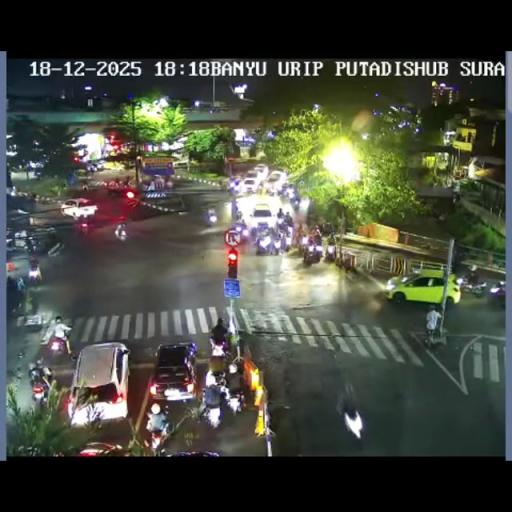Car: (66, 342, 130, 424), (149, 342, 198, 402), (385, 270, 461, 306), (68, 441, 134, 456), (248, 202, 278, 231), (60, 198, 97, 219), (265, 170, 286, 192), (242, 176, 260, 194), (86, 160, 104, 172), (254, 164, 268, 178)
Motorcycle: (339, 400, 365, 450), (45, 328, 71, 362), (144, 422, 170, 454), (198, 400, 224, 429), (456, 273, 487, 297), (30, 372, 51, 407), (207, 346, 230, 376), (422, 325, 445, 352), (210, 318, 228, 352), (225, 387, 245, 415), (22, 284, 38, 317), (486, 280, 504, 308), (42, 230, 62, 254), (302, 241, 322, 264), (255, 232, 274, 255), (260, 400, 274, 430), (230, 221, 248, 242), (28, 261, 42, 285), (323, 242, 336, 262), (342, 252, 354, 273), (281, 229, 293, 249), (25, 236, 37, 256), (114, 224, 126, 241), (106, 183, 120, 197), (289, 194, 301, 210), (78, 218, 90, 234), (292, 229, 302, 247), (206, 209, 217, 224), (227, 182, 238, 196), (250, 224, 259, 240), (234, 208, 244, 222), (313, 230, 322, 244), (452, 190, 461, 204), (70, 210, 78, 224), (286, 186, 295, 198), (285, 215, 293, 228), (27, 192, 37, 202), (301, 234, 309, 246), (8, 186, 17, 196), (165, 178, 173, 188), (277, 208, 284, 219), (82, 182, 89, 192), (124, 176, 130, 187), (216, 178, 222, 188)
